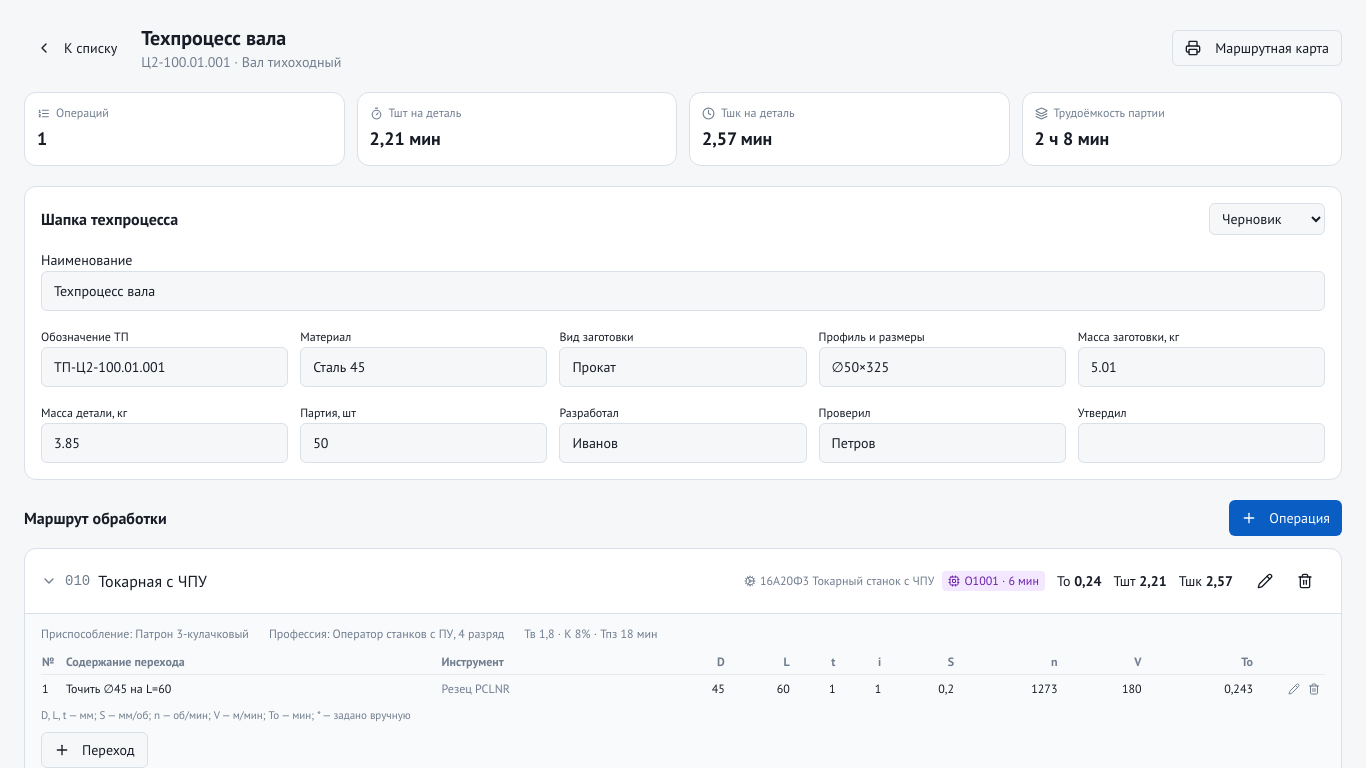
Test: Редактор техкарты › открывает маршрутную карту
Click the button "Маршрутная карта" at (1257, 48), box [1172,30,1342,66]
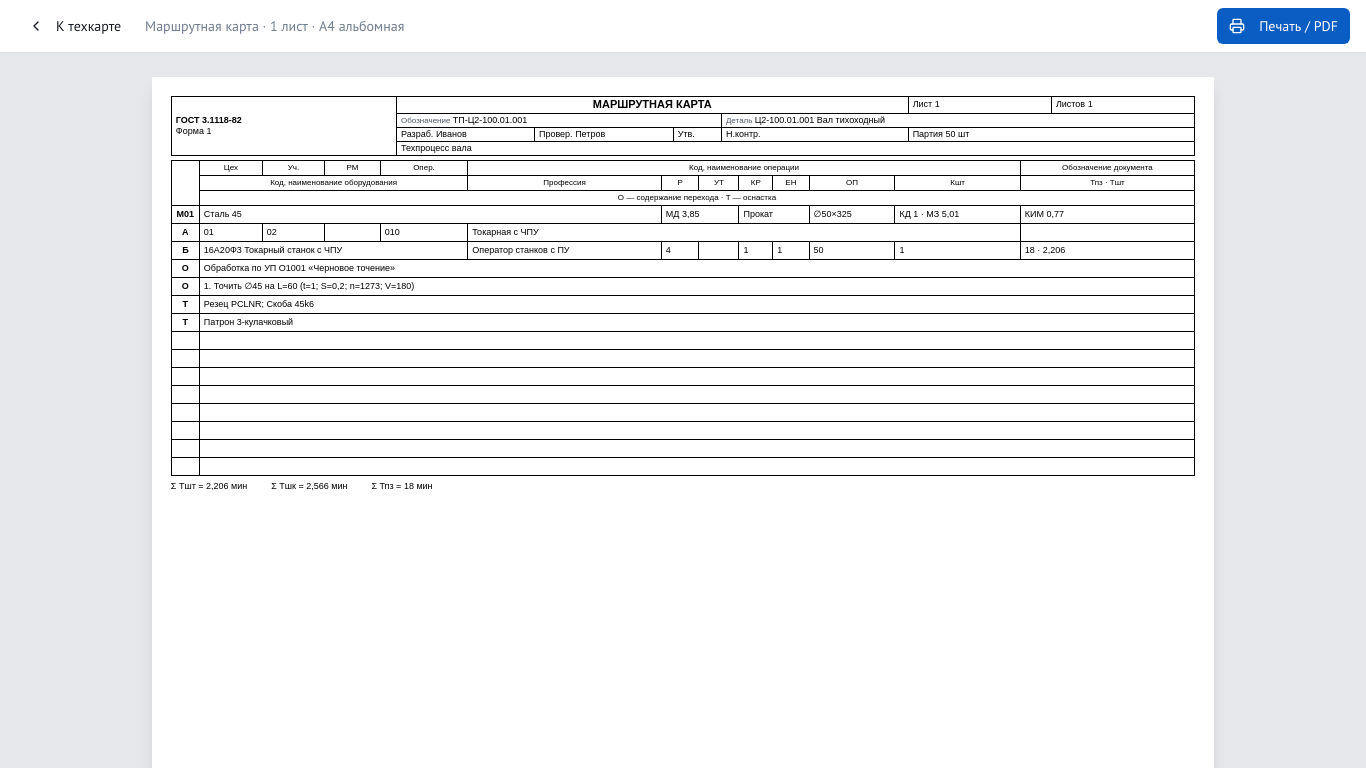
Expected: the text "МАРШРУТНАЯ КАРТА" is shown, [396,96,908,113]
